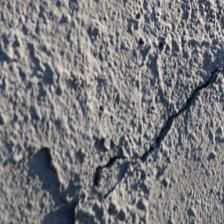Crack: (45, 36, 176, 157)
